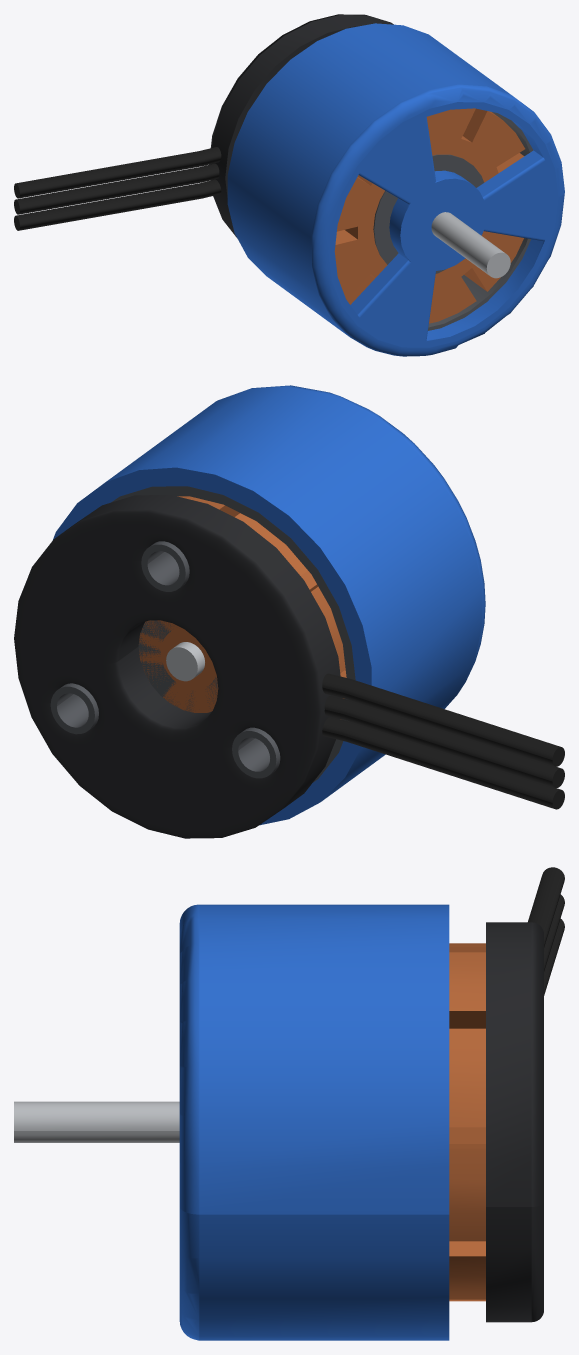
Rendered from betafpv-0802-28000kv.glb.
3 views of the same model, one above another, from view 1: azimuth 30°, elevation 25°; view 2: azimuth 150°, elevation 25°; view 3: azimuth 270°, elevation 25° (orthographic). The views are drawn at different scales.
Visible parts, largest first — view 1: bell, stator_windings, base, lead_3, lead_1, lead_2, shaft, stator_core, magnets; view 2: base, bell, stator_windings, lead_3, lead_1, lead_2, magnets, mount_hole_2, mount_hole_1, mount_hole_3, stator_core, shaft; view 3: bell, base, stator_windings, shaft, lead_3.
Boxes of the visible parts, x1=… form: bell: x1=227, y1=23, x2=564, y2=356; stator_windings: x1=334, y1=108, x2=525, y2=323; base: x1=209, y1=14, x2=393, y2=237; lead_3: x1=14, y1=147, x2=221, y2=198; lead_1: x1=14, y1=179, x2=221, y2=230; lead_2: x1=14, y1=163, x2=219, y2=214; shaft: x1=431, y1=212, x2=510, y2=278; stator_core: x1=373, y1=154, x2=484, y2=273; magnets: x1=428, y1=112, x2=533, y2=330; base: x1=14, y1=495, x2=342, y2=838; bell: x1=52, y1=385, x2=485, y2=825; stator_windings: x1=139, y1=496, x2=346, y2=719; lead_3: x1=322, y1=673, x2=564, y2=766; lead_1: x1=322, y1=717, x2=564, y2=809; lead_2: x1=324, y1=695, x2=564, y2=787; magnets: x1=111, y1=486, x2=355, y2=782; mount_hole_2: x1=232, y1=727, x2=280, y2=778; mount_hole_1: x1=141, y1=541, x2=189, y2=591; mount_hole_3: x1=50, y1=683, x2=98, y2=734; stator_core: x1=138, y1=620, x2=218, y2=711; shaft: x1=166, y1=642, x2=204, y2=681; bell: x1=179, y1=904, x2=449, y2=1340; base: x1=486, y1=922, x2=543, y2=1322; stator_windings: x1=449, y1=943, x2=485, y2=1301; shaft: x1=14, y1=1101, x2=179, y2=1142; lead_3: x1=528, y1=867, x2=564, y2=947.
Size of the model in its own units: 17.9 by 10.53 by 13.3.
